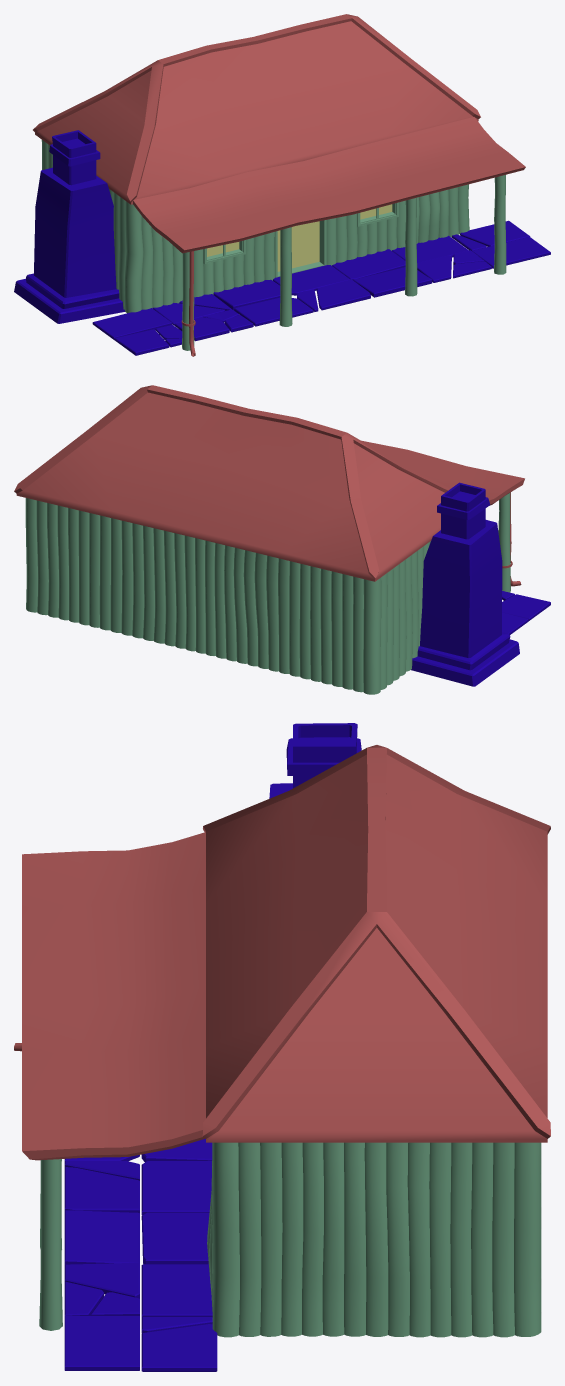
The model's file is OutbackHouse.fbx.
The picture shows the model from 3 angles, top to bottom: view 1: azimuth 30°, elevation 25°; view 2: azimuth 150°, elevation 25°; view 3: azimuth 270°, elevation 25°; orthographic projection. The views are drawn at different scales.
Visible parts, largest first — view 1: roof, overhang, exterior, chimney, interior, pCube9, pCube4, pCube15, pCube21, pCube5, pCube12, pCube13 (+14 smaller); view 2: roof, exterior, chimney, overhang, post1, pCube21, pCube15; view 3: roof, exterior, overhang, pCube10, pCube7, pCube8, pCube9, pCube4, post4, pCube6, pCube3, chimney (+2 smaller).
Part boxes in pixels (x1,y1,x2,y2): roof: [33, 14, 480, 204]; overhang: [133, 117, 525, 253]; exterior: [41, 140, 469, 313]; chimney: [14, 130, 125, 323]; interior: [207, 204, 392, 271]; pCube9: [417, 250, 491, 282]; pCube4: [297, 279, 370, 311]; pCube15: [92, 308, 172, 339]; pCube21: [114, 325, 182, 355]; pCube5: [332, 249, 405, 279]; pCube12: [174, 309, 253, 341]; pCube13: [213, 279, 280, 310]; roof: [14, 385, 450, 581]; exterior: [25, 498, 430, 694]; chimney: [411, 482, 519, 686]; overhang: [361, 440, 524, 505]; post1: [498, 493, 510, 592]; pCube21: [502, 591, 550, 620]; pCube15: [502, 612, 528, 634]; roof: [202, 745, 550, 1142]; exterior: [207, 1142, 541, 1337]; overhang: [22, 832, 205, 1160]; pCube10: [64, 1316, 139, 1370]; pCube7: [141, 1317, 217, 1371]; pCube8: [64, 1210, 139, 1264]; pCube9: [64, 1262, 139, 1315]; pCube4: [64, 1161, 139, 1213]; post4: [39, 1159, 62, 1330]; pCube6: [141, 1264, 212, 1316]; pCube3: [141, 1161, 211, 1215]; chimney: [269, 723, 361, 798].
Size of the model in its own units: 459 by 206 by 272.
